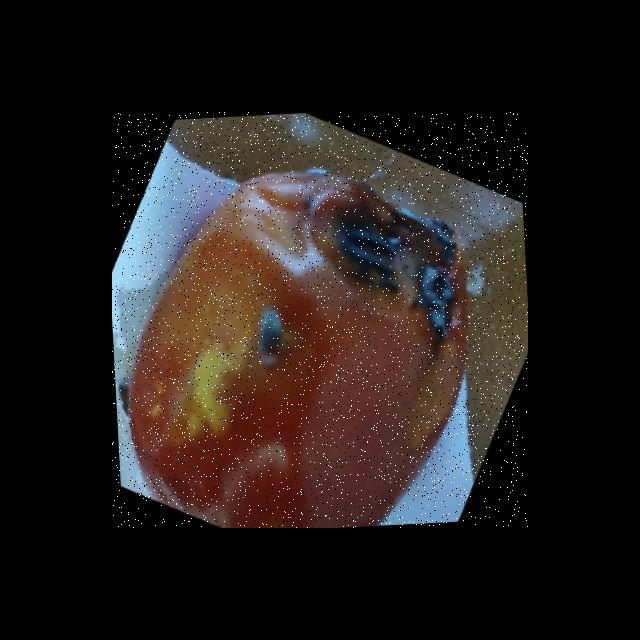tomato: (122, 166, 475, 528)
